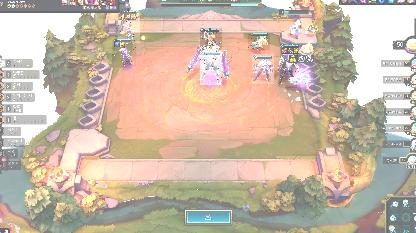1_seraphine: (248, 34, 270, 50)
1_yasuo: (112, 40, 136, 68)
2_jayce: (200, 28, 222, 50)
2_pantheon: (280, 44, 298, 88)
2_syfen: (200, 51, 222, 85)
2_sylas: (252, 54, 274, 84)
2_zyra: (118, 11, 140, 43)
